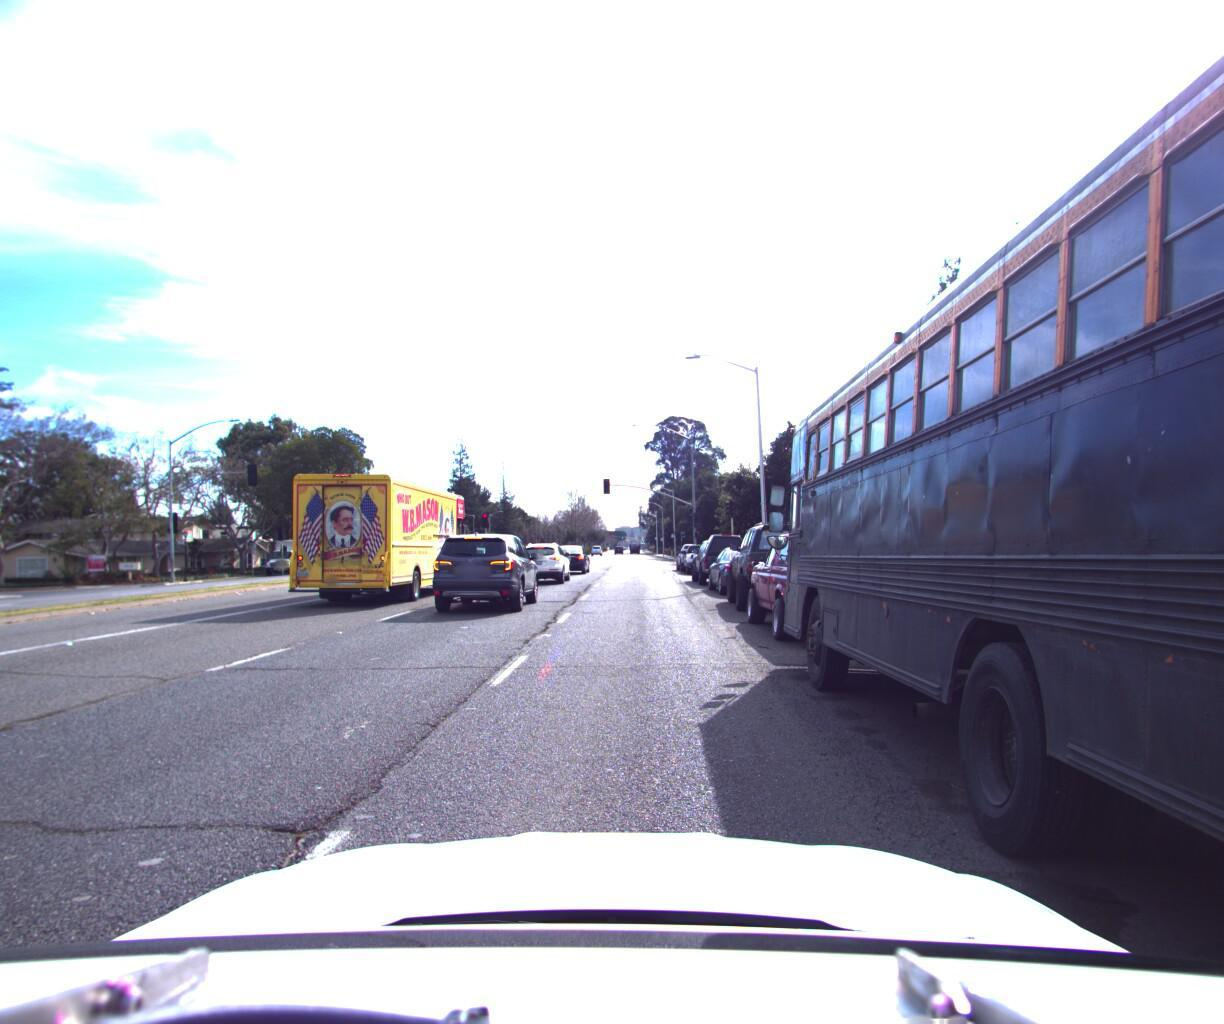car: (741, 519, 938, 653), (722, 513, 832, 614), (420, 527, 542, 613), (703, 538, 788, 592), (689, 526, 754, 581), (518, 534, 574, 579), (551, 537, 592, 569), (682, 535, 721, 568), (675, 535, 714, 564)
truck: (284, 465, 477, 608), (258, 533, 331, 569)
